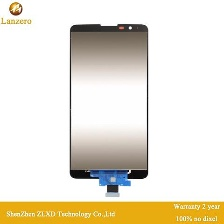phone: (65, 20, 150, 180)
